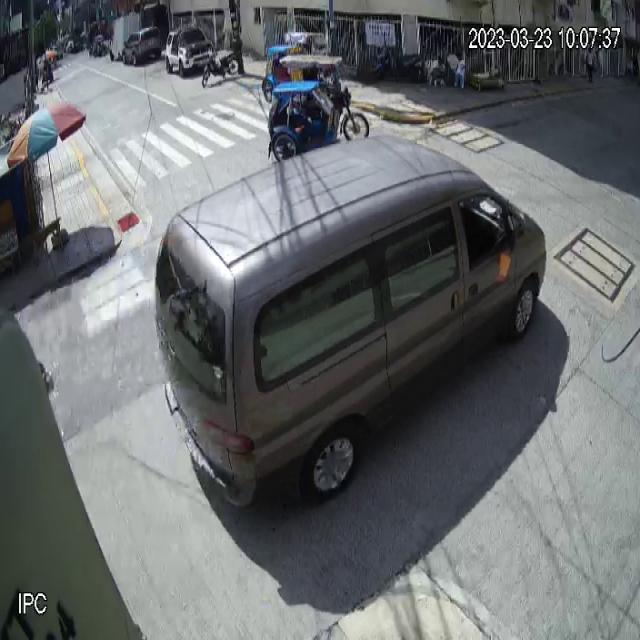Tricycle: (268, 53, 370, 160)
Van: (152, 132, 547, 515)
